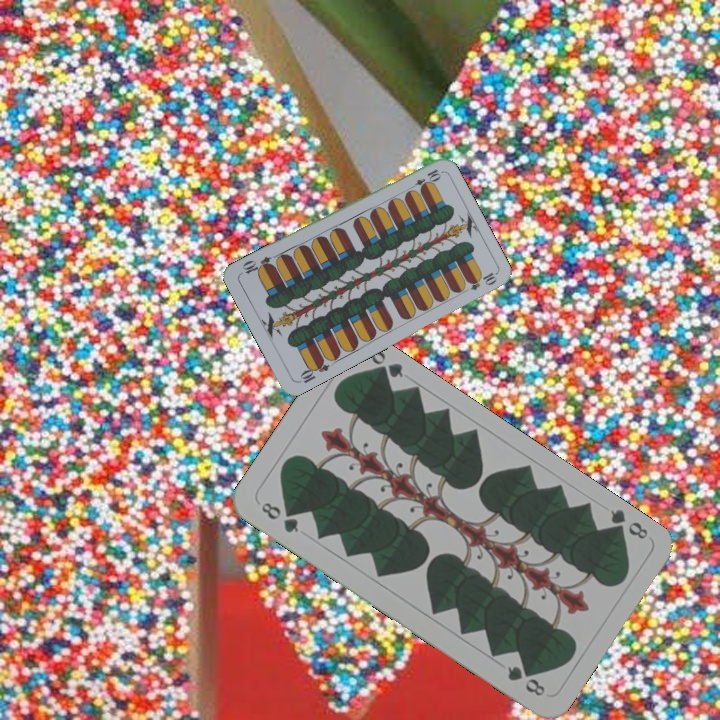E10: (294, 355, 332, 386), (405, 165, 443, 193)
G8: (604, 505, 651, 542), (257, 498, 301, 536)
